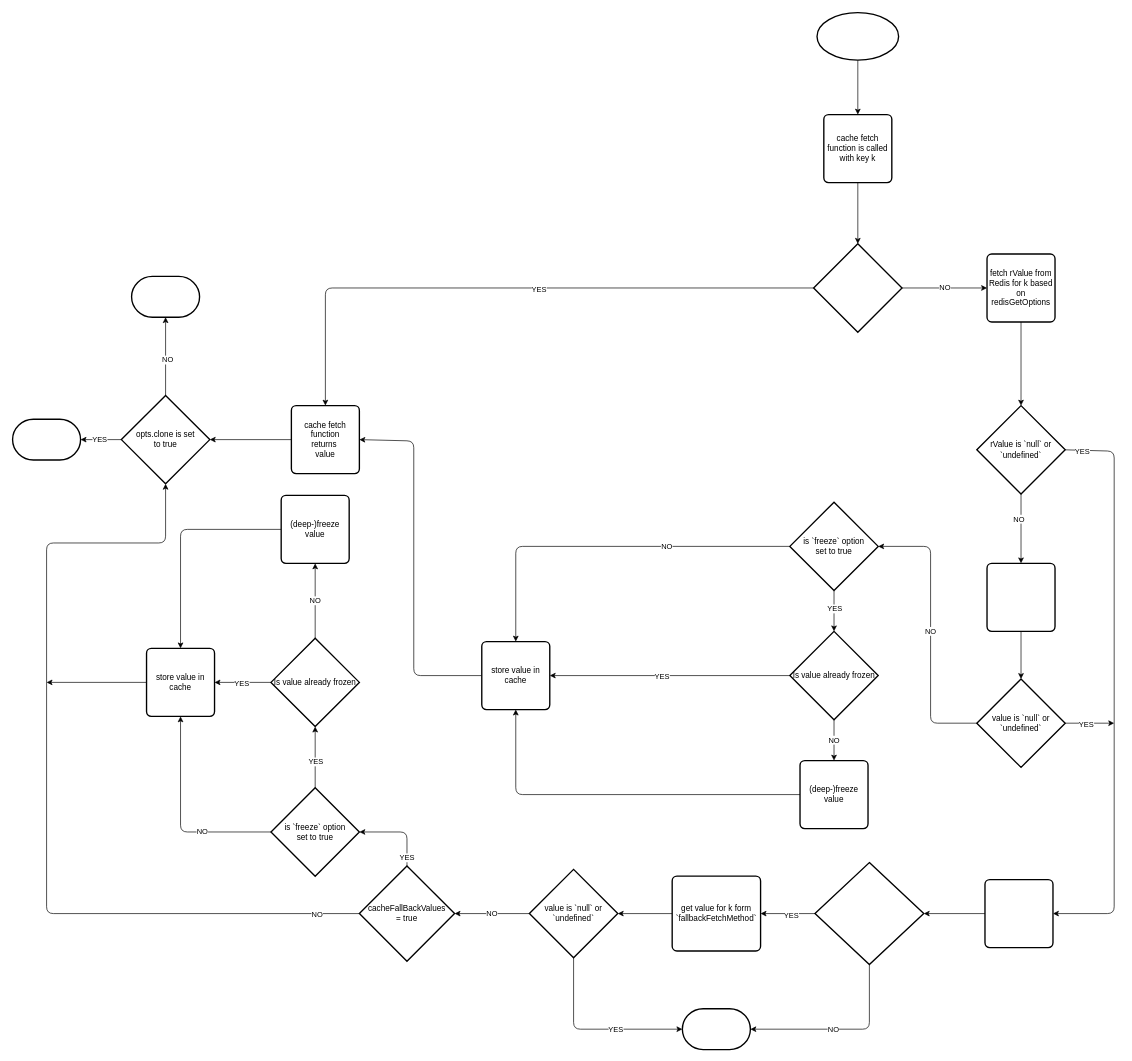
Image size: 1132x1061. Some labels were removed from this diagram. Here are the shapes that lost their labels. From the top down, the centre of each, then its label:
point (857, 36): get function is called with key k and opts
point (165, 296): return value
point (857, 288): Is value for k already in cache
point (46, 439): return clone of value
point (1020, 597): call `deserialize` with rValue to get value
point (869, 913): `fallbackFetchMethod` was provided
point (1018, 913): cache fetch function does not return value
point (716, 1029): return undefined
